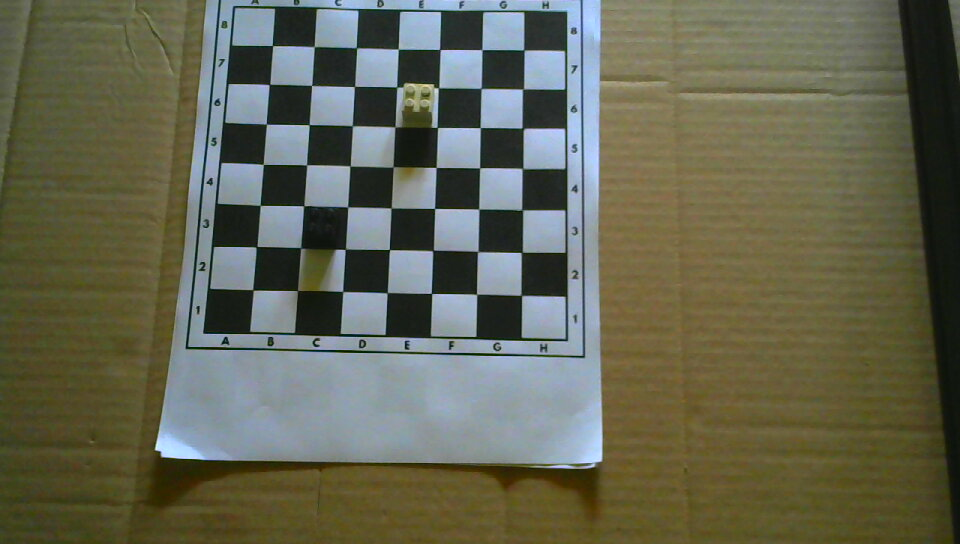bp: (304, 204, 342, 247)
wp: (400, 79, 436, 123)
